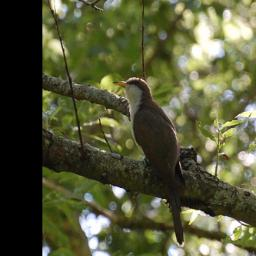Cuckoo: (112, 76, 189, 249)
